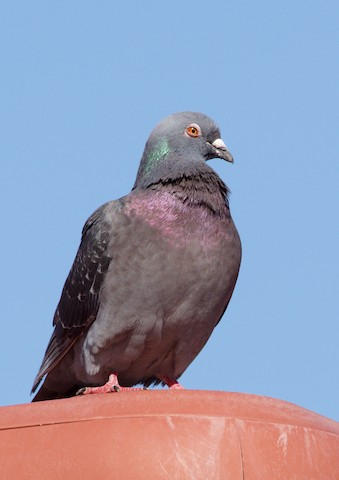pigeon: (27, 107, 245, 404)
